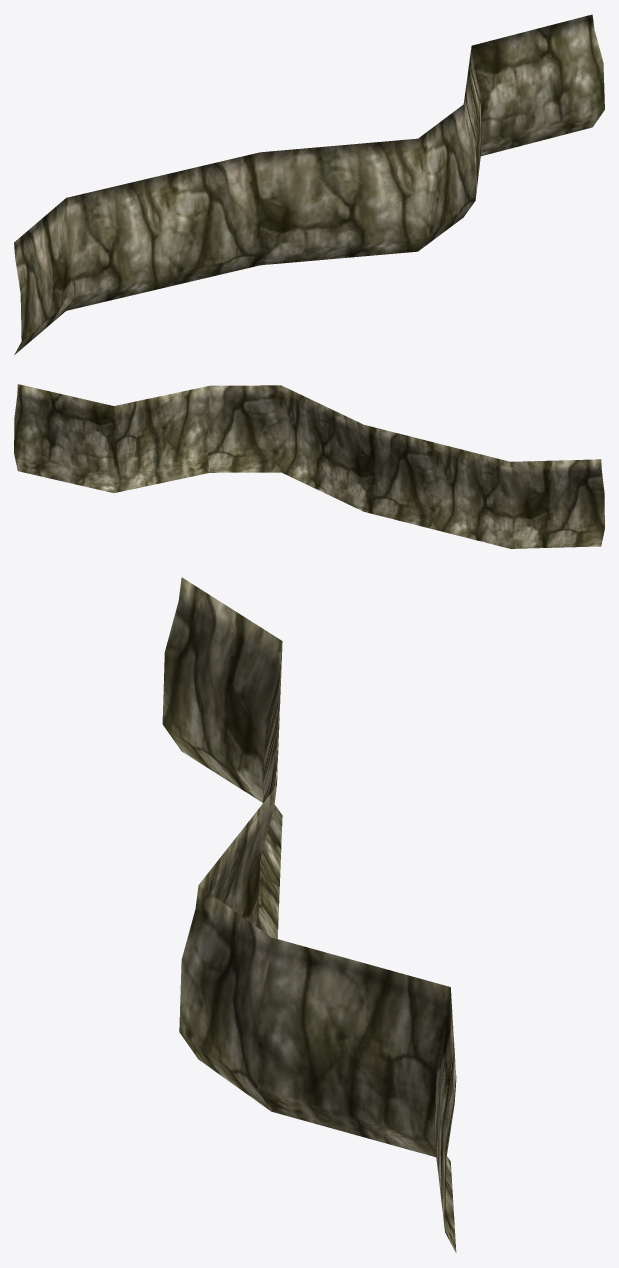
File: CB_NEWPLAYSURFACE_CB_PLAYSURFACE140.fbx
3 renders of one model, top to bottom at view 1: azimuth 30°, elevation 25°; view 2: azimuth 150°, elevation 25°; view 3: azimuth 270°, elevation 25°, orthographic. The views are drawn at different scales.
Parts seen in each view (by area): view 1: CB_NEWPLAYSURFACE_CB_PLAYSURFACE140; view 2: CB_NEWPLAYSURFACE_CB_PLAYSURFACE140; view 3: CB_NEWPLAYSURFACE_CB_PLAYSURFACE140.
Boxes of the visible parts, box(x1,y1,x2,y2) form: CB_NEWPLAYSURFACE_CB_PLAYSURFACE140: box(14, 14, 604, 354); CB_NEWPLAYSURFACE_CB_PLAYSURFACE140: box(14, 384, 604, 548); CB_NEWPLAYSURFACE_CB_PLAYSURFACE140: box(162, 577, 456, 1252).
Size of the model in its own units: 250469 by 40000 by 61115.
Materials: 1 (1 with a texture image).
